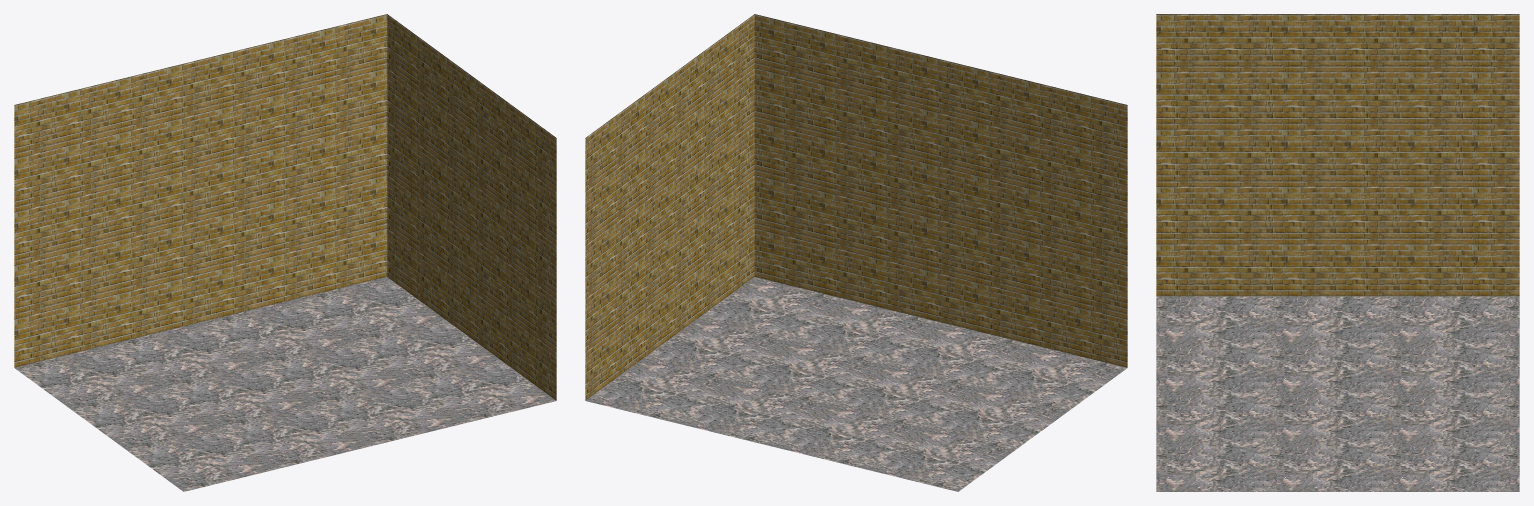
The model's file is RoomTestSmall.gltf.
The picture shows the model from 3 angles, left to right: view 1: azimuth 30°, elevation 25°; view 2: azimuth 150°, elevation 25°; view 3: azimuth 270°, elevation 25°; orthographic projection. The views are drawn at different scales.
Visible parts, largest first — view 1: BrickBare, Marble; view 2: BrickBare, Marble; view 3: BrickBare, Marble.
Part boxes in pixels (bbox=[...]): BrickBare: bbox=[14, 14, 556, 400]; Marble: bbox=[15, 277, 555, 491]; BrickBare: bbox=[585, 14, 1127, 400]; Marble: bbox=[586, 277, 1126, 491]; BrickBare: bbox=[1156, 14, 1519, 296]; Marble: bbox=[1156, 296, 1519, 491].
Size of the model in its own units: 4.82 by 3.25 by 3.79.
Materials: 2 (2 with a texture image).
